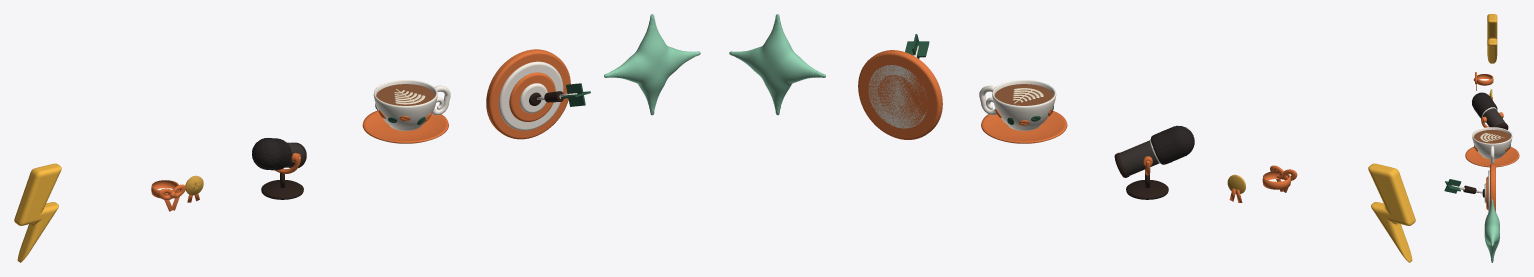
Rendered from hero-models.glb.
3 renders of one model, left to right at view 1: azimuth 30°, elevation 25°; view 2: azimuth 150°, elevation 25°; view 3: azimuth 270°, elevation 25°, orthographic. The views are drawn at different scales.
Visible parts, largest first — view 1: SparkleBody, TargetRingOuter, BoltBody, TargetRing2, CupSaucer, CupBody, TargetRing3, MicHead, CupCoffee, MicBase, TargetRing4; view 2: TargetRingOuter, SparkleBody, BoltBody, TargetRing2, CupSaucer, CupBody, TargetRing3, MicHead, CupCoffee, MicBody, MicBase; view 3: SparkleBody, CupBody, CupSaucer, BoltBody, MicHead, CupCoffee, MicBody, TargetRingOuter, RibbonBand, DartFlight1, TargetRing3, CupHandle (+5 smaller).
Part boxes in pixels (bbox=[...]): SparkleBody: bbox=[604, 14, 700, 115]; TargetRingOuter: bbox=[486, 49, 570, 139]; BoltBody: bbox=[14, 163, 61, 262]; TargetRing2: bbox=[499, 61, 563, 130]; CupSaucer: bbox=[362, 110, 448, 143]; CupBody: bbox=[373, 80, 437, 130]; TargetRing3: bbox=[509, 72, 555, 121]; MicHead: bbox=[252, 138, 291, 170]; CupCoffee: bbox=[376, 84, 435, 105]; MicBase: bbox=[261, 180, 303, 199]; TargetRing4: bbox=[519, 83, 547, 113]; TargetRingOuter: bbox=[858, 50, 942, 139]; SparkleBody: bbox=[729, 14, 825, 115]; BoltBody: bbox=[1368, 163, 1415, 262]; TargetRing2: bbox=[868, 65, 926, 128]; CupSaucer: bbox=[981, 111, 1067, 143]; CupBody: bbox=[992, 80, 1056, 130]; TargetRing3: bbox=[877, 75, 918, 118]; MicHead: bbox=[1151, 125, 1194, 164]; CupCoffee: bbox=[994, 84, 1053, 105]; MicBody: bbox=[1119, 140, 1159, 175]; MicBase: bbox=[1126, 180, 1168, 199]; SparkleBody: bbox=[1484, 199, 1499, 262]; CupBody: bbox=[1472, 127, 1512, 159]; CupSaucer: bbox=[1465, 147, 1519, 167]; BoltBody: bbox=[1487, 14, 1497, 63]; MicHead: bbox=[1472, 92, 1497, 117]; CupCoffee: bbox=[1473, 129, 1510, 143]; MicBody: bbox=[1483, 108, 1505, 127]; TargetRingOuter: bbox=[1490, 163, 1495, 211]; RibbonBand: bbox=[1477, 74, 1493, 85]; DartFlight1: bbox=[1444, 179, 1461, 193]; TargetRing3: bbox=[1486, 176, 1488, 209]; CupHandle: bbox=[1490, 145, 1494, 163].
Size of the model in its own units: 8.32 by 1.17 by 1.26.
